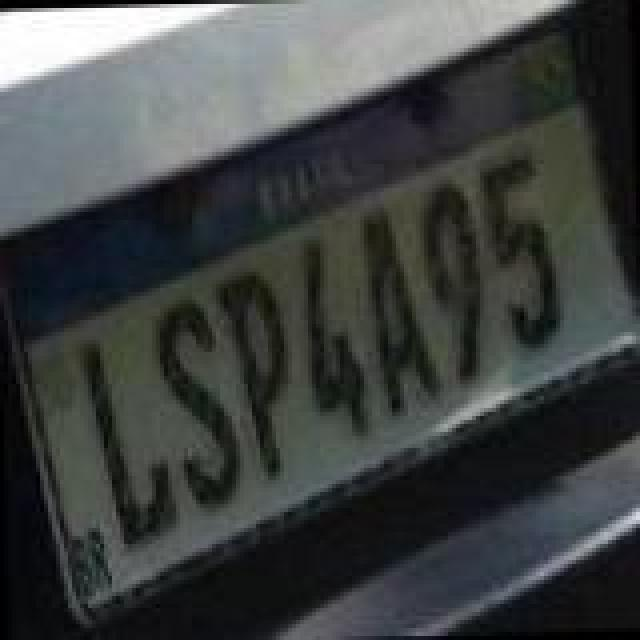4: (300, 238, 372, 442)
5: (476, 154, 564, 358)
9: (422, 180, 490, 388)
A: (358, 204, 442, 420)
L: (76, 334, 180, 554)
P: (218, 268, 294, 484)
S: (154, 296, 246, 512)
